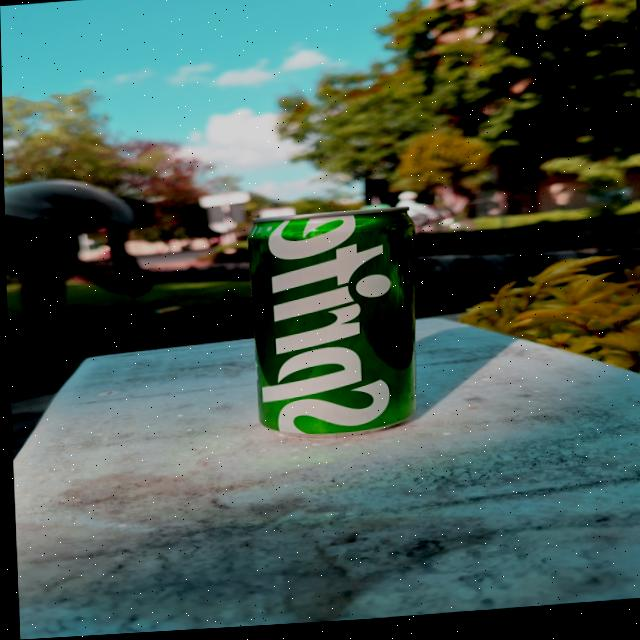Sprite: (244, 209, 425, 442)
